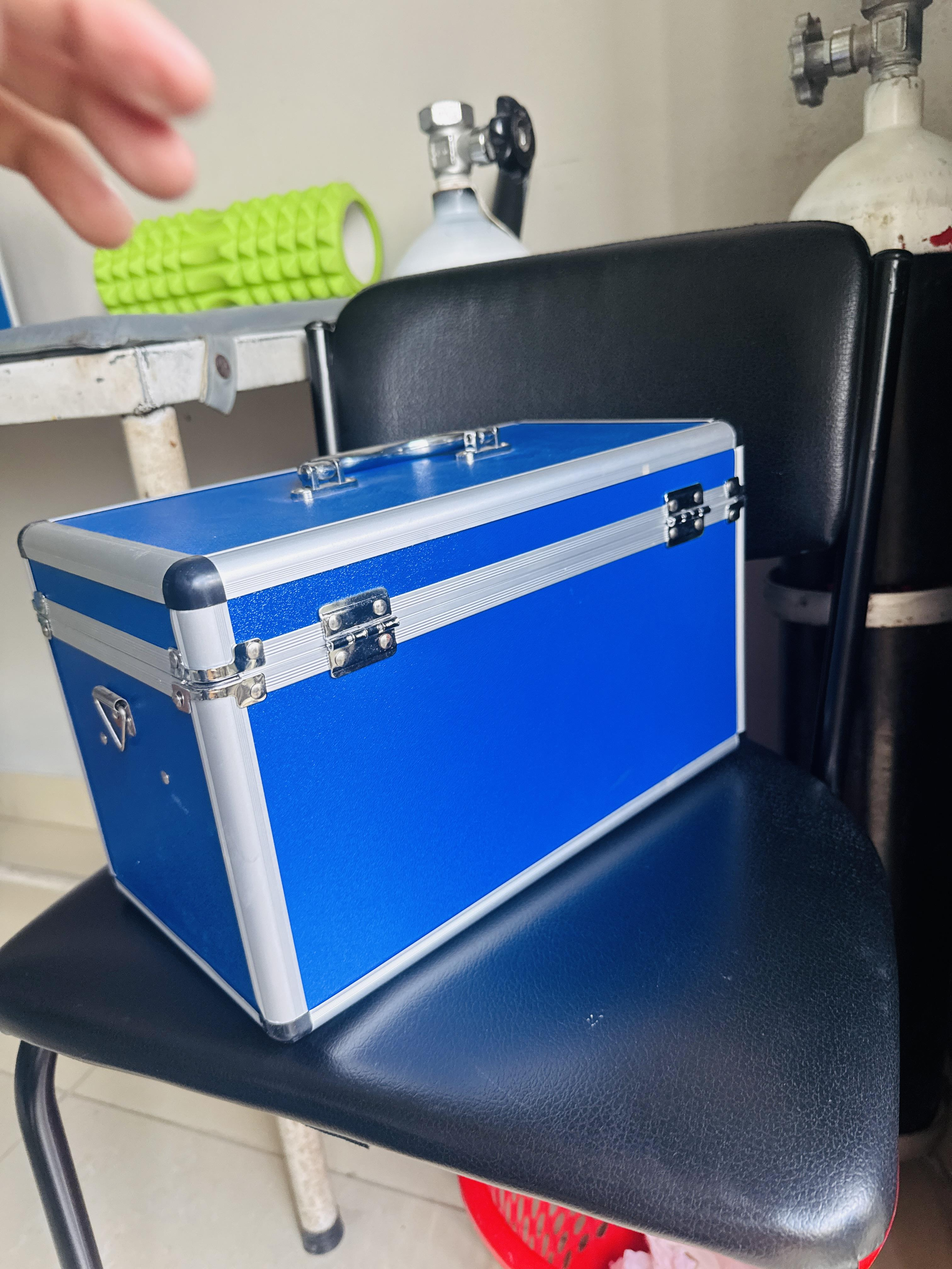FirstAidBox: (17, 402, 801, 1055)
